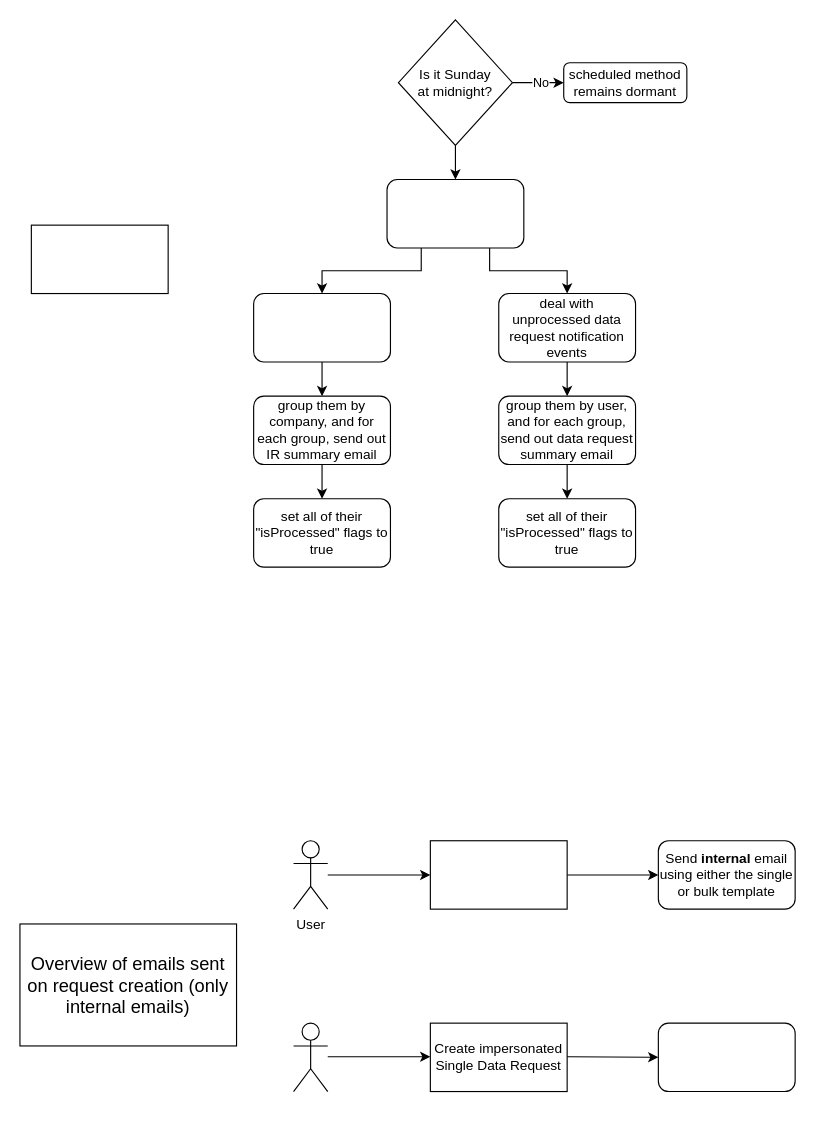
This 815x1135 diagram has some shape labels left out. The shapes that lost their labels are listed below. From the top down, each one's centre as x and y in pixels, then its label:
(x=455, y=213): scheduled method in NotificationService is triggered
(x=99, y=259): Workflow of the weekly scheduler
(x=321, y=327): deal with unprocessed IR notification events
(x=498, y=874): Create Single or Bulk Data Request
(x=310, y=1057): Admin
(x=726, y=1057): Send internal email using the single template
